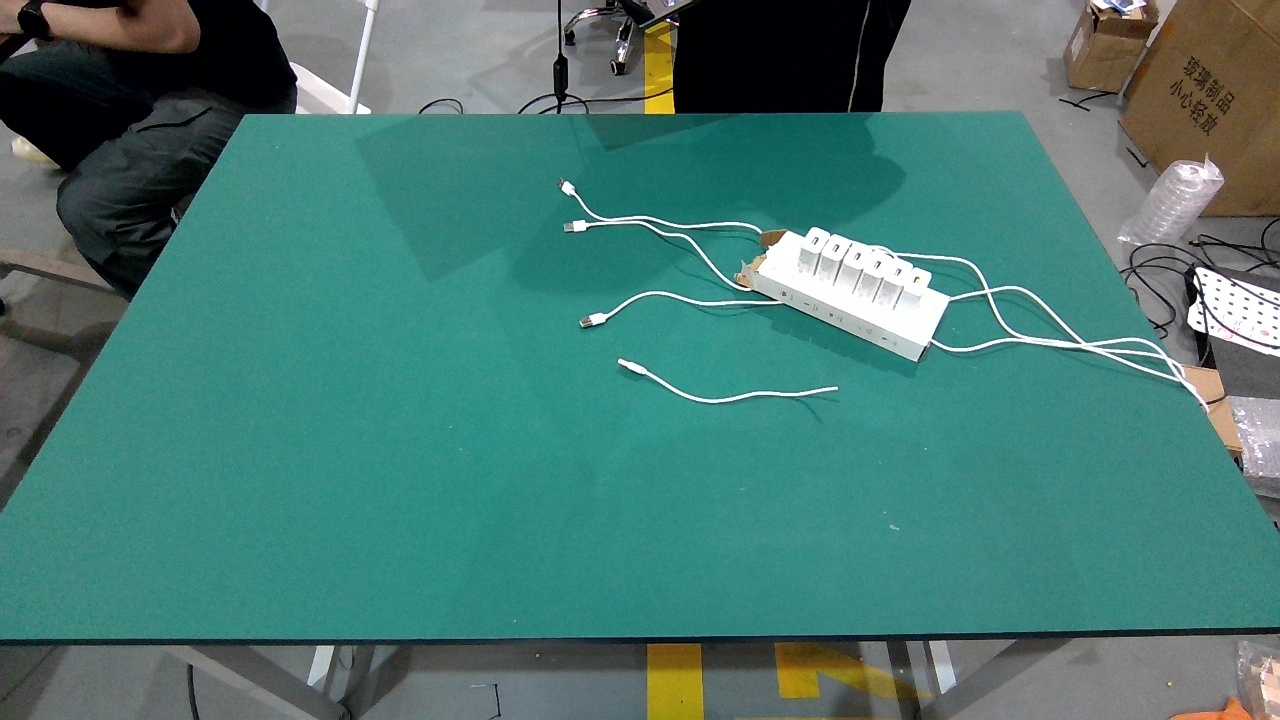usb_a_port: (893, 267, 902, 278), (831, 243, 840, 253), (853, 251, 862, 261), (811, 236, 819, 246), (873, 260, 881, 270), (913, 275, 921, 285)
